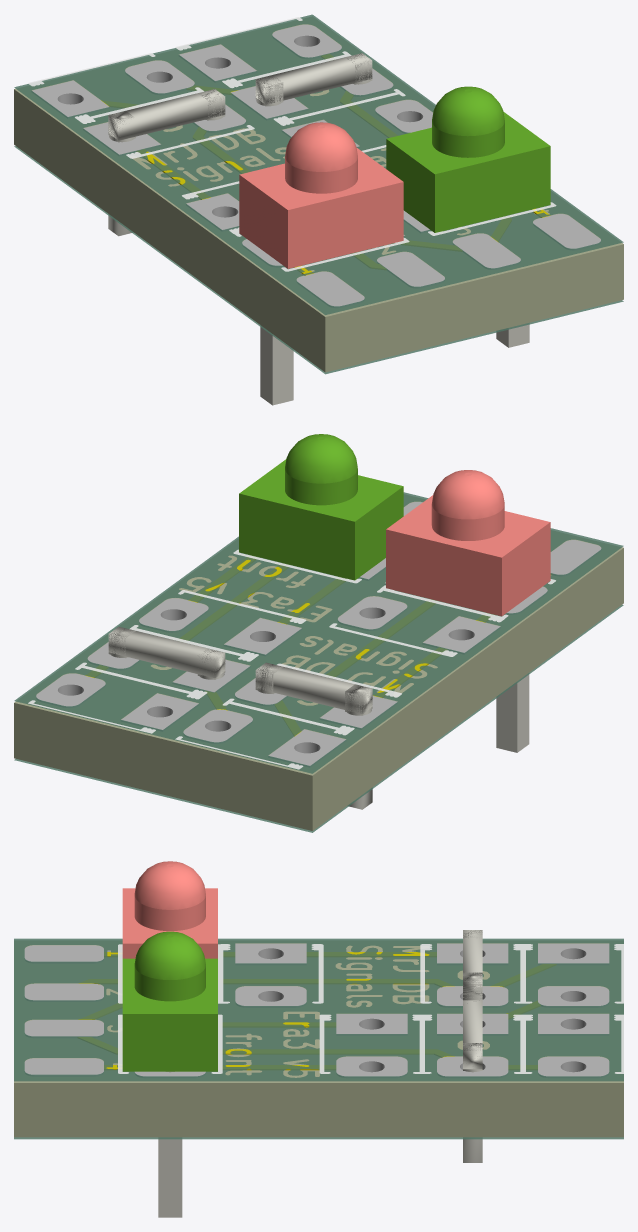
Rendered from MrJ-DB-Era3-prod-bloc-test-w1w2.glb.
The picture shows the model from 3 angles, top to bottom: view 1: azimuth 30°, elevation 25°; view 2: azimuth 150°, elevation 25°; view 3: azimuth 270°, elevation 25°; orthographic projection. The views are drawn at different scales.
Parts seen in each view (by area): view 1: =>[0:1:1:13], =>[0:1:1:11], =>[0:1:1:7], =>[0:1:1:9], =>[0:1:1:3], =>[0:1:1:5] (×2), =>[0:1:1:10], =>[0:1:1:8], =>[0:1:1:12]; view 2: =>[0:1:1:13], =>[0:1:1:11], =>[0:1:1:7], =>[0:1:1:9], =>[0:1:1:3], =>[0:1:1:5] (×2), =>[0:1:1:10], =>[0:1:1:8], =>[0:1:1:12]; view 3: =>[0:1:1:13], =>[0:1:1:11], =>[0:1:1:9], =>[0:1:1:3], =>[0:1:1:7], =>[0:1:1:8], =>[0:1:1:10], =>[0:1:1:5] (×2), =>[0:1:1:12].
Part boxes in pixels (bbox=[...]): =>[0:1:1:13]: bbox=[14, 17, 623, 372]; =>[0:1:1:11]: bbox=[14, 14, 623, 314]; =>[0:1:1:7]: bbox=[239, 122, 403, 405]; =>[0:1:1:9]: bbox=[32, 24, 600, 307]; =>[0:1:1:3]: bbox=[386, 86, 550, 347]; =>[0:1:1:5] (×2): bbox=[108, 53, 372, 236]; =>[0:1:1:10]: bbox=[28, 17, 556, 271]; =>[0:1:1:8]: bbox=[101, 54, 550, 275]; =>[0:1:1:12]: bbox=[14, 146, 623, 374]; =>[0:1:1:13]: bbox=[14, 495, 623, 830]; =>[0:1:1:11]: bbox=[14, 492, 623, 773]; =>[0:1:1:7]: bbox=[386, 470, 550, 752]; =>[0:1:1:9]: bbox=[36, 502, 601, 766]; =>[0:1:1:3]: bbox=[239, 434, 403, 580]; =>[0:1:1:5] (×2): bbox=[108, 626, 372, 809]; =>[0:1:1:10]: bbox=[28, 549, 555, 769]; =>[0:1:1:8]: bbox=[85, 557, 489, 736]; =>[0:1:1:12]: bbox=[14, 604, 623, 832]; =>[0:1:1:13]: bbox=[14, 941, 623, 1137]; =>[0:1:1:11]: bbox=[14, 938, 623, 1081]; =>[0:1:1:9]: bbox=[24, 943, 609, 1077]; =>[0:1:1:3]: bbox=[122, 931, 217, 1217]; =>[0:1:1:7]: bbox=[122, 861, 217, 958]; =>[0:1:1:8]: bbox=[78, 952, 555, 1070]; =>[0:1:1:10]: bbox=[118, 944, 623, 1073]; =>[0:1:1:5] (×2): bbox=[463, 930, 482, 1162]; =>[0:1:1:12]: bbox=[14, 1137, 623, 1139].
Bounding box in the file's own units: 0.00851 × 0.0071 × 0.0154.
